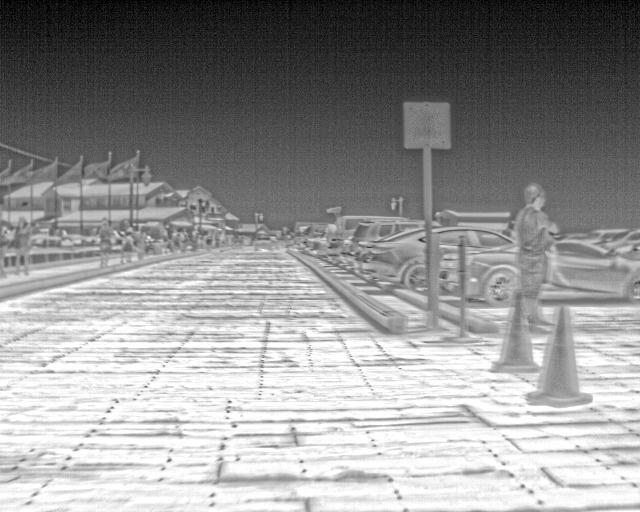bicycle: (559, 238, 639, 303), (330, 214, 417, 262), (362, 228, 423, 292), (345, 223, 420, 268), (468, 245, 515, 306), (435, 223, 511, 250), (440, 256, 462, 298), (252, 232, 273, 254), (305, 237, 327, 255)
empty: (513, 186, 555, 336), (11, 217, 34, 276), (96, 216, 114, 267), (117, 229, 137, 265), (1, 221, 13, 277), (130, 227, 147, 262)
